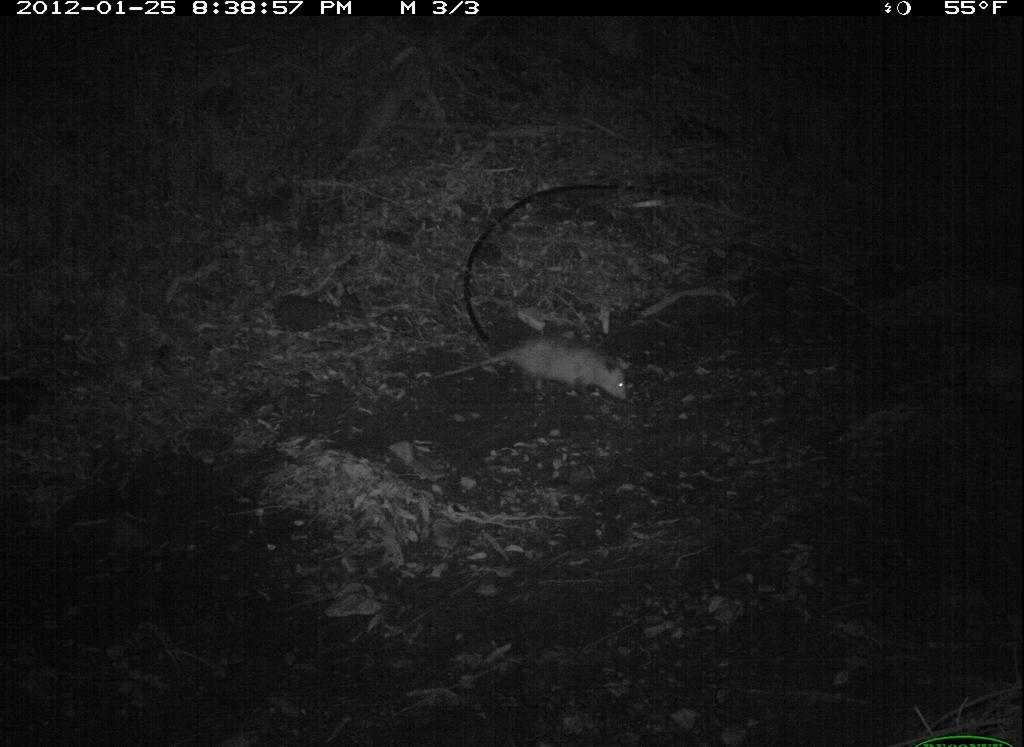opossum: (418, 328, 646, 418)
